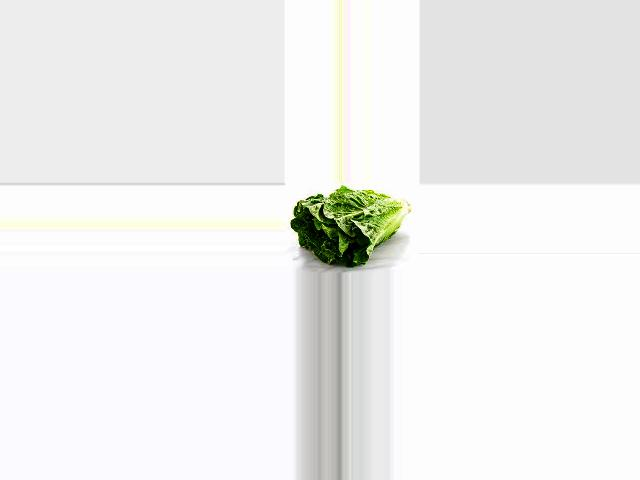lettuce: (292, 184, 408, 268)
